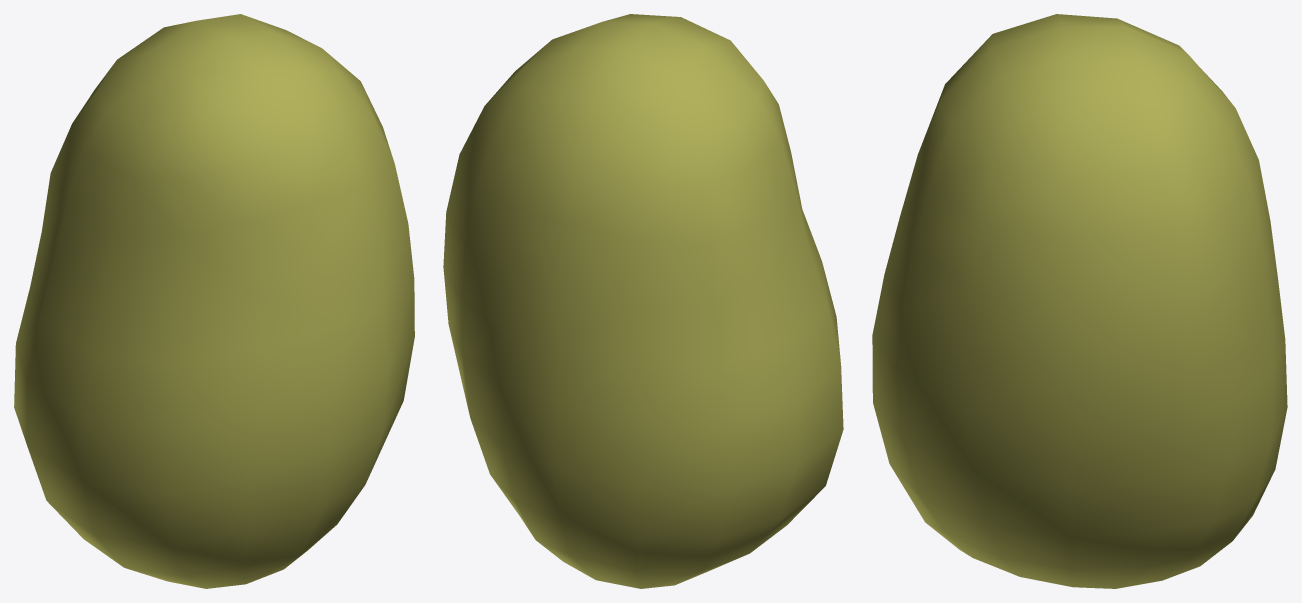
The model's file is potato_lod0_1.fbx.
3 views of the same model, side by side, from view 1: azimuth 30°, elevation 25°; view 2: azimuth 150°, elevation 25°; view 3: azimuth 270°, elevation 25° (orthographic). The views are drawn at different scales.
Parts seen in each view (by area): view 1: polySurface1; view 2: polySurface1; view 3: polySurface1.
Part boxes in pixels (box(x1,y1,x2,y2)): polySurface1: box(14, 14, 414, 588); polySurface1: box(443, 14, 843, 588); polySurface1: box(872, 14, 1287, 588).
Bounding box in the file's own units: 6.11 × 8.93 × 6.01.
